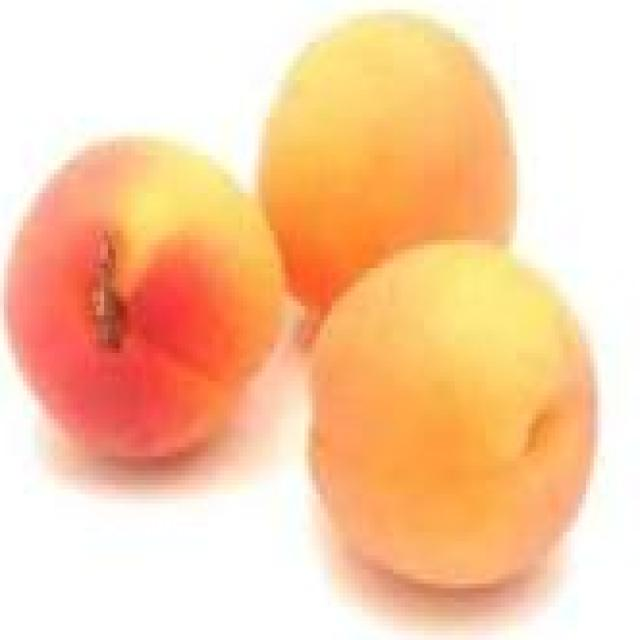apricot: (0, 0, 609, 607)
